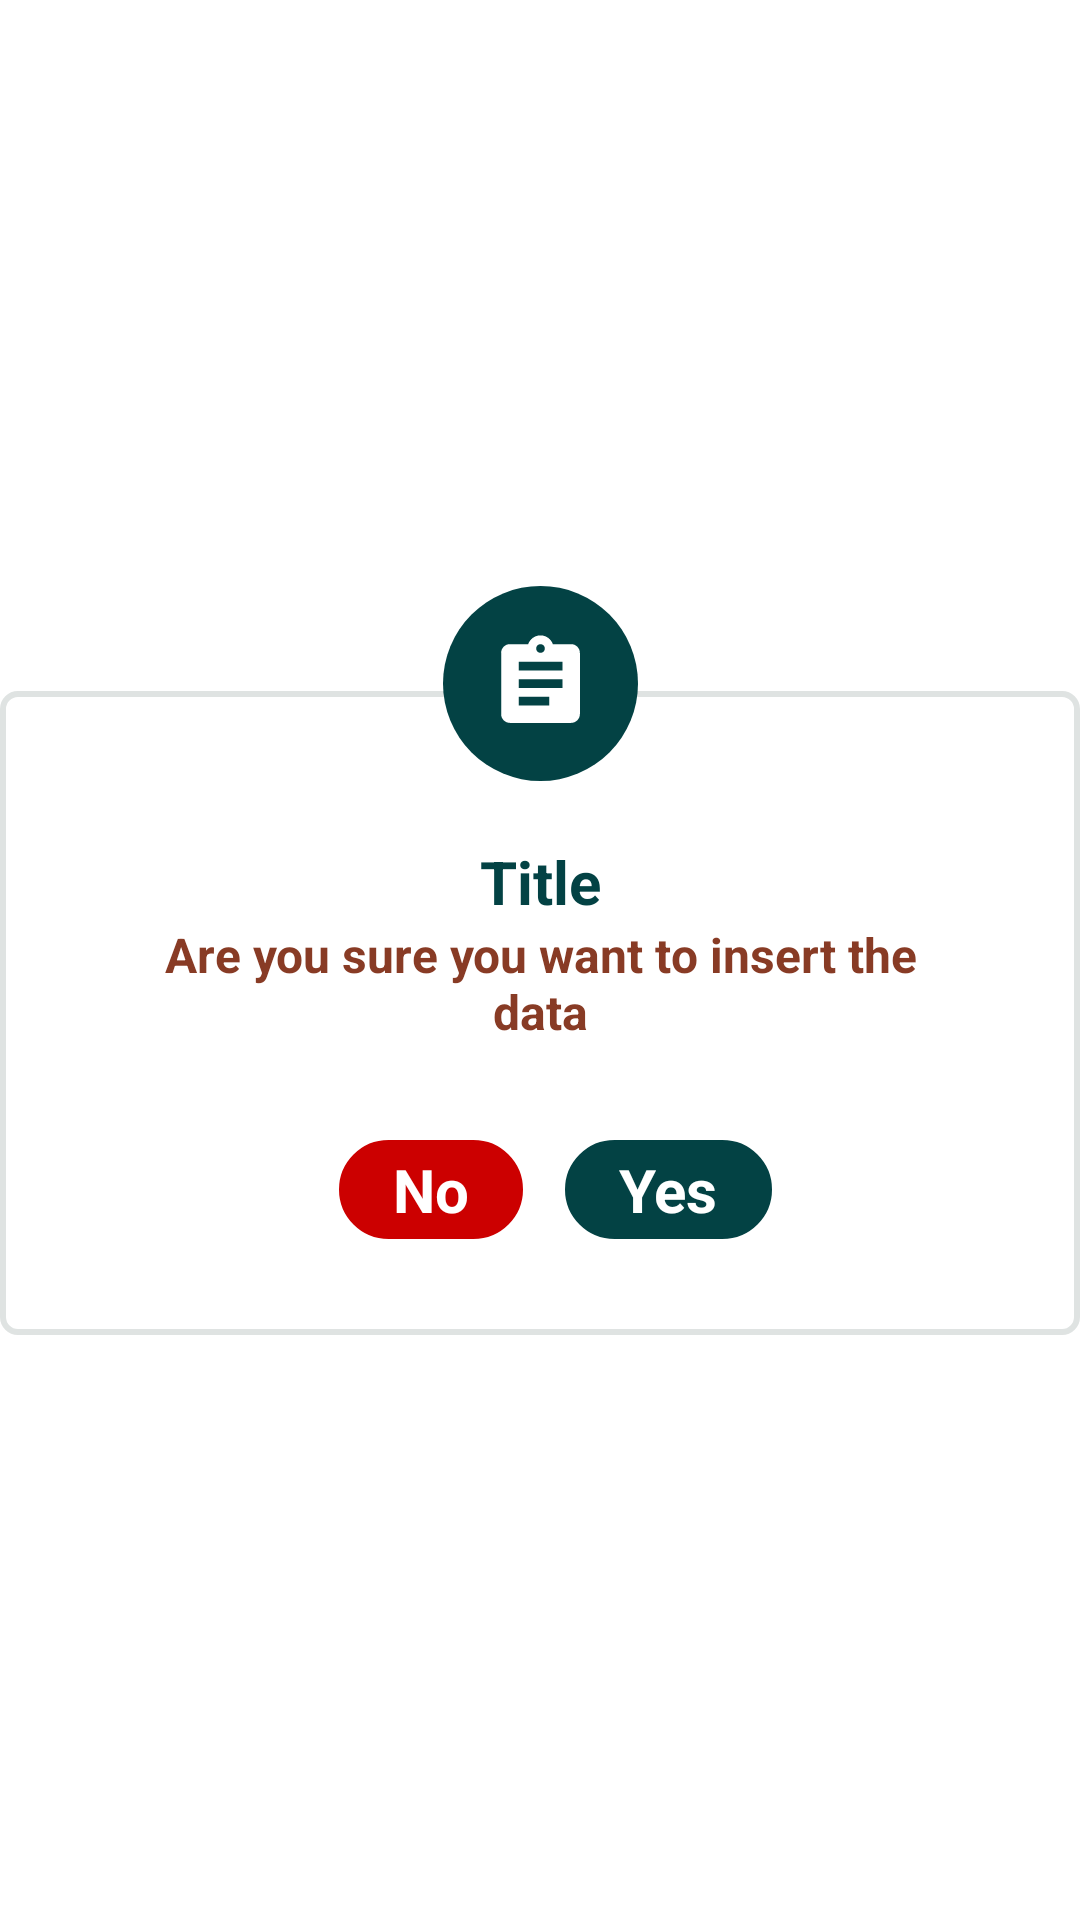

Icon bounding boxes for this 1080x1920 phone screenshot, format (x1, y1, x2, y2):
assignment: (443, 586, 638, 781)
